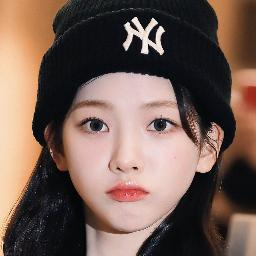winterCool: (76, 80, 186, 218)
